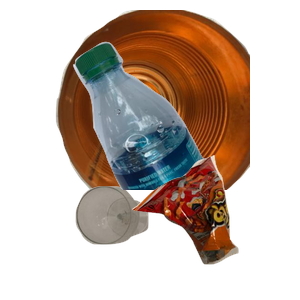glass: (73, 184, 214, 300)
metal: (53, 10, 293, 190)
plastic: (71, 39, 300, 219)
trash: (130, 153, 300, 300)
